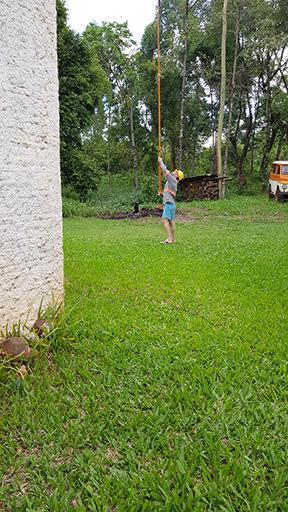Vara_Manobra: (155, 1, 162, 194)
